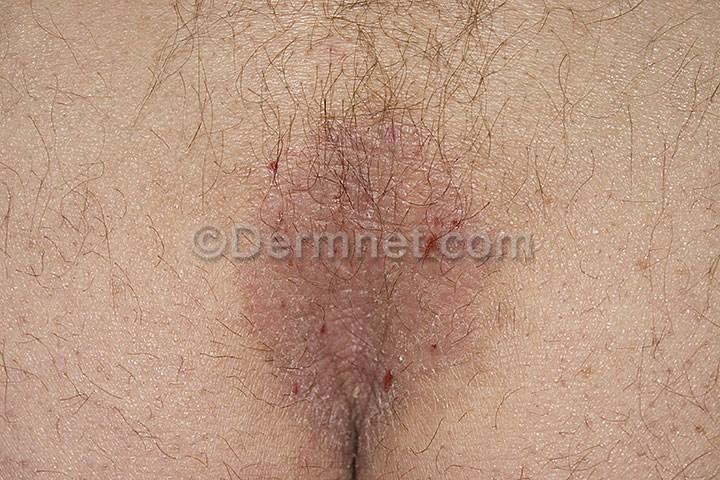Eczema: (344, 238, 479, 395), (224, 249, 343, 401), (288, 98, 409, 239)
